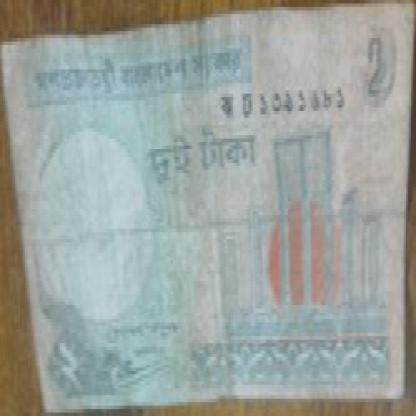two taka: (53, 330, 98, 395), (360, 35, 394, 100)
